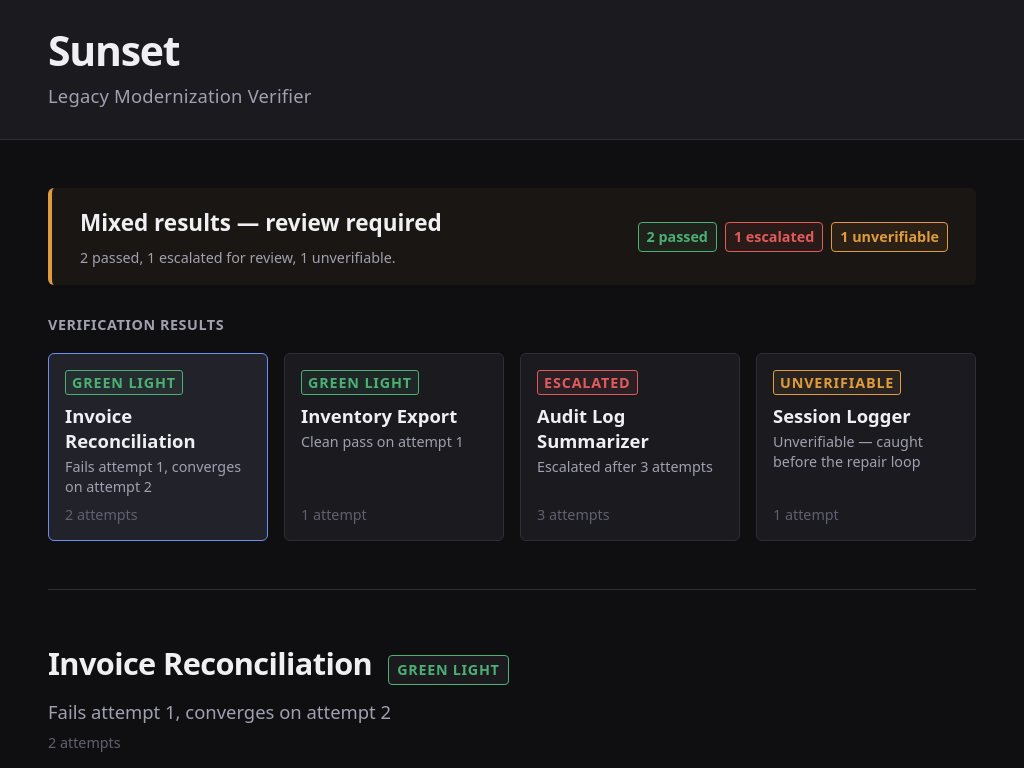
Test: App evidence detail — result selection (AC-4) › updates the evidence detail title when a different card is selected
Click the button with test id "result-card-02" at (394, 447), box x1=284 y1=353 x2=504 y2=541
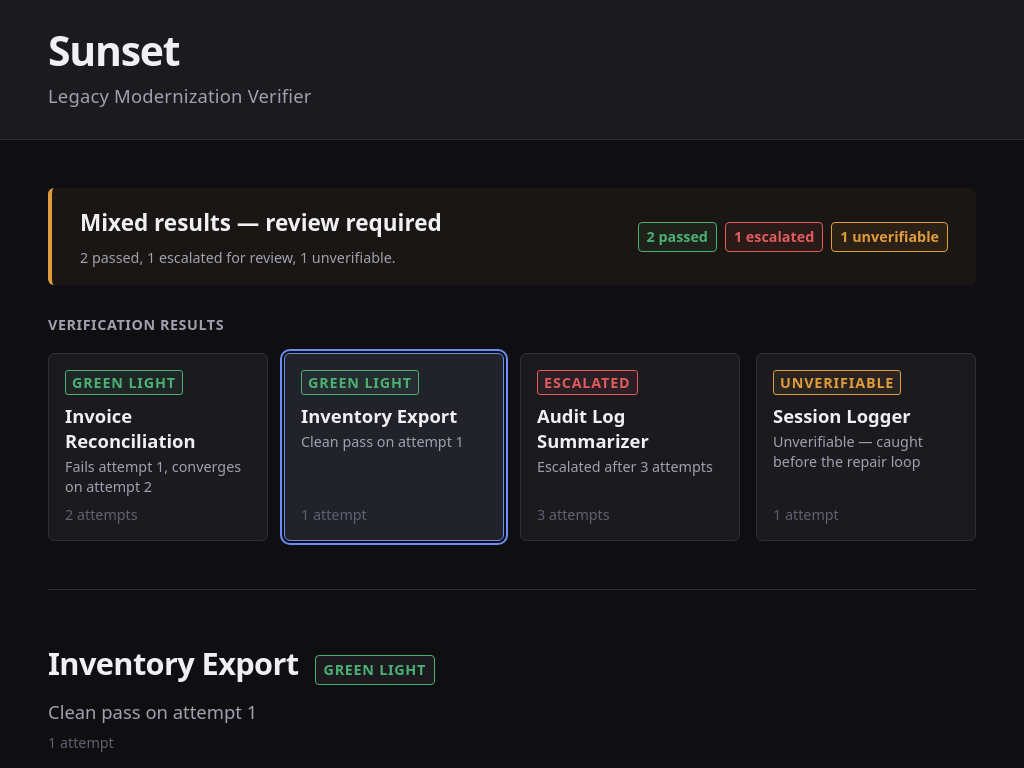
Check: the heading "Inventory Export" is shown, box x1=48 y1=638 x2=299 y2=689
